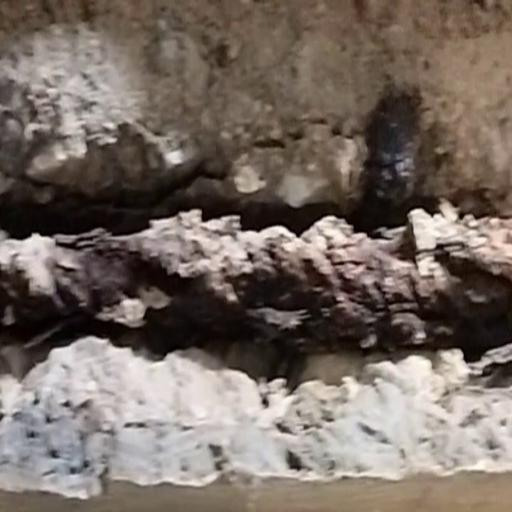spalling: (16, 0, 503, 512)
